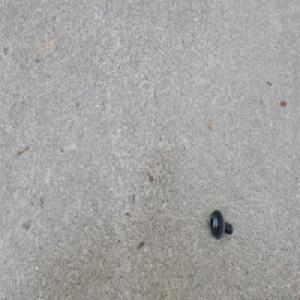BoltWasher: (210, 207, 234, 238)
